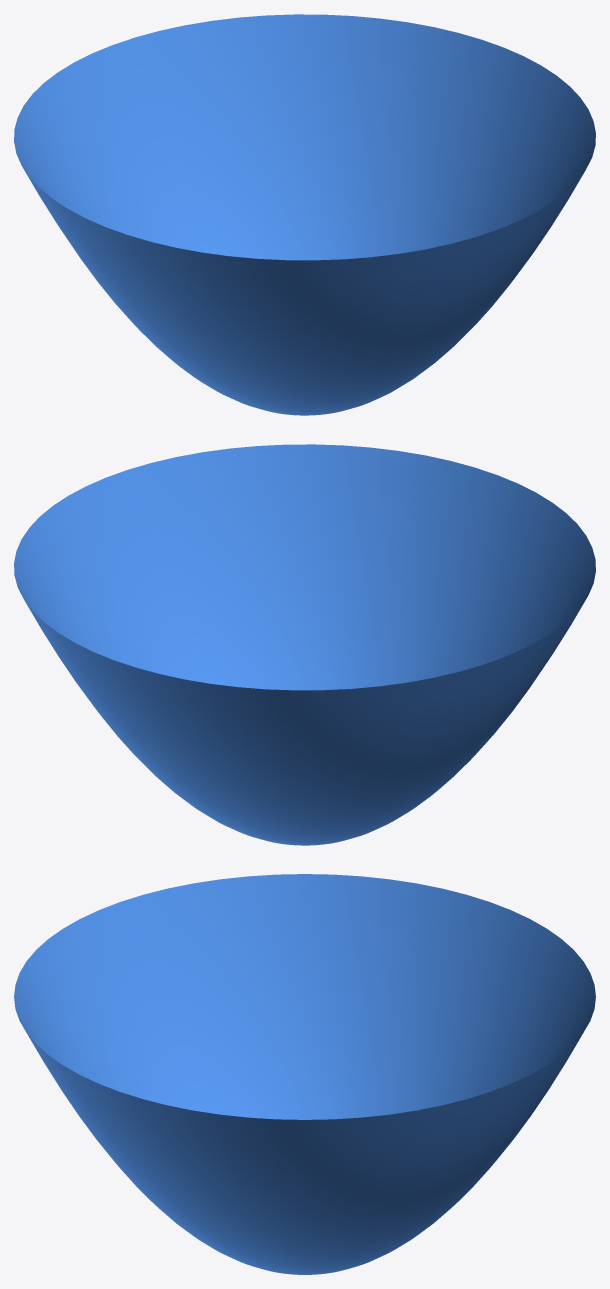
Rendered from paraboloid-quality.glb.
3 views of the same model, one above another, from view 1: azimuth 30°, elevation 25°; view 2: azimuth 150°, elevation 25°; view 3: azimuth 270°, elevation 25° (orthographic).
Parts seen in each view (by area): view 1: Paraboloid surface; view 2: Paraboloid surface; view 3: Paraboloid surface.
Boxes of the visible parts, x1,y1,x2,y2 form: Paraboloid surface: [14, 14, 595, 415]; Paraboloid surface: [14, 444, 595, 845]; Paraboloid surface: [14, 874, 595, 1274].
Size of the model in its own units: 2 by 1 by 2.
